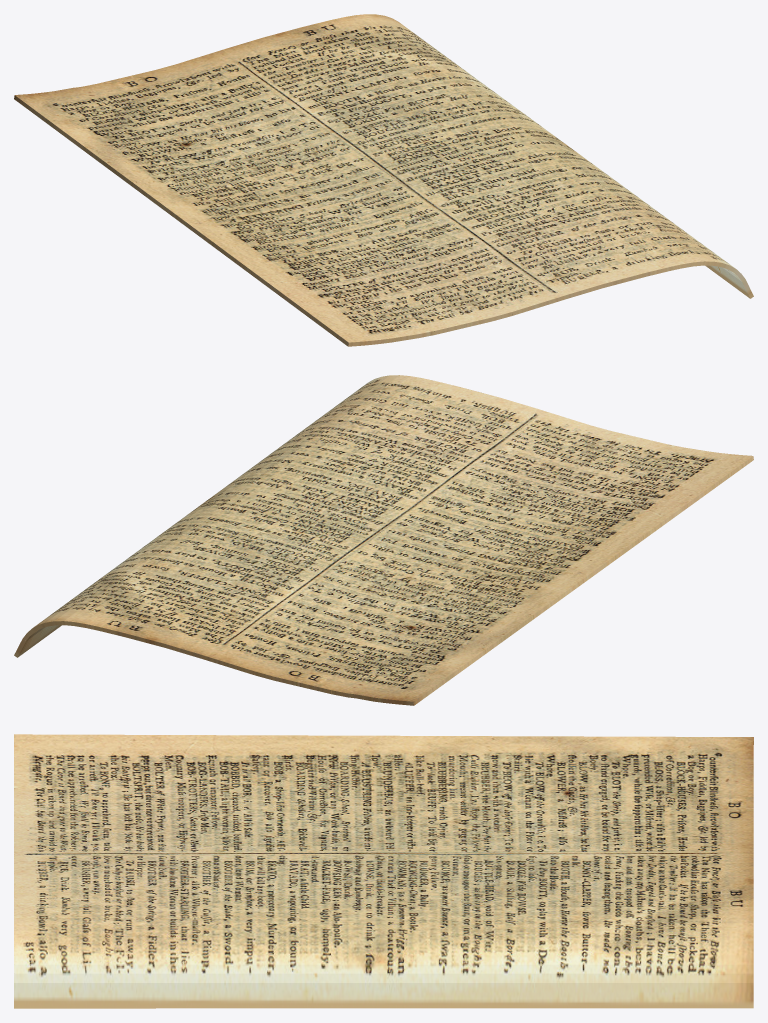
Rendered from left page.fbx.
3 views of the same model, one above another, from view 1: azimuth 30°, elevation 25°; view 2: azimuth 150°, elevation 25°; view 3: azimuth 270°, elevation 25° (orthographic). The views are drawn at different scales.
Visible parts, largest first — view 1: polySurface23; view 2: polySurface23; view 3: polySurface23.
Part boxes in pixels (bbox=[...]): polySurface23: bbox=[14, 14, 753, 346]; polySurface23: bbox=[14, 375, 753, 705]; polySurface23: bbox=[14, 734, 753, 1008].
Bounding box in the file's own units: 12.14 × 1.55 × 17.49.
1 material, 1 textured.
